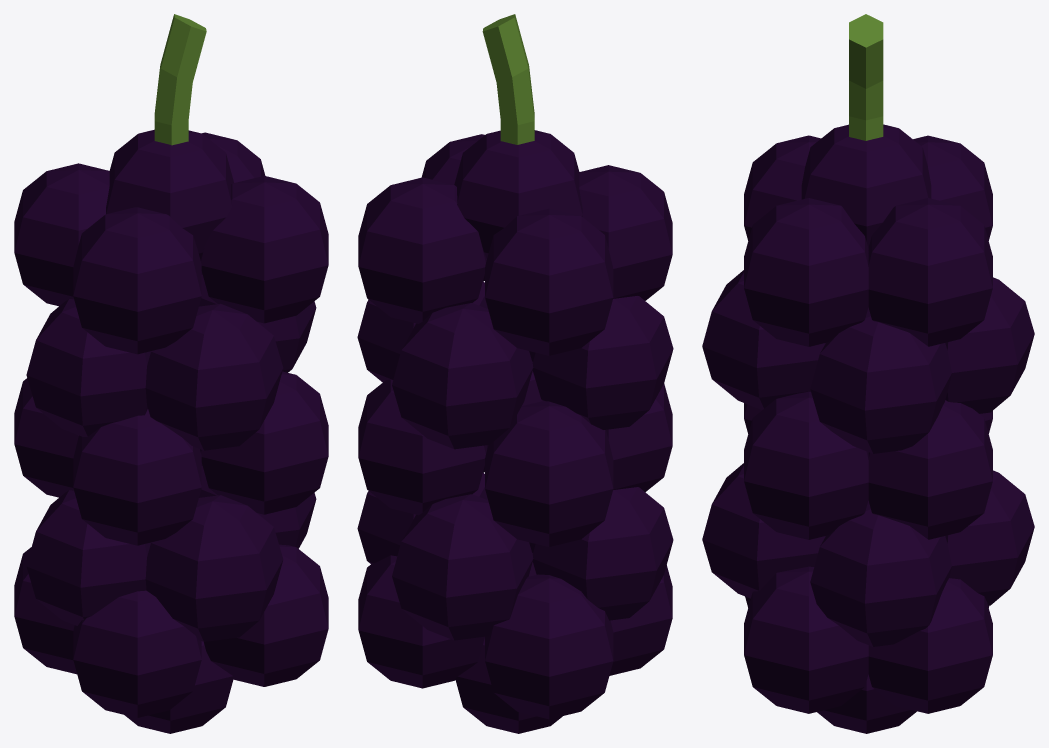
File: BlackMulberry.fbx
The picture shows the model from 3 angles, left to right: view 1: azimuth 30°, elevation 25°; view 2: azimuth 150°, elevation 25°; view 3: azimuth 270°, elevation 25°; orthographic projection.
Visible parts, largest first — view 1: BlackMulberry2; view 2: BlackMulberry2; view 3: BlackMulberry2.
Part boxes in pixels (x1,y1,x2,y2): BlackMulberry2: [14, 14, 328, 733]; BlackMulberry2: [357, 14, 673, 733]; BlackMulberry2: [702, 14, 1034, 733].
Bounding box in the file's own units: 0.4096 × 0.9687 × 0.4082.
